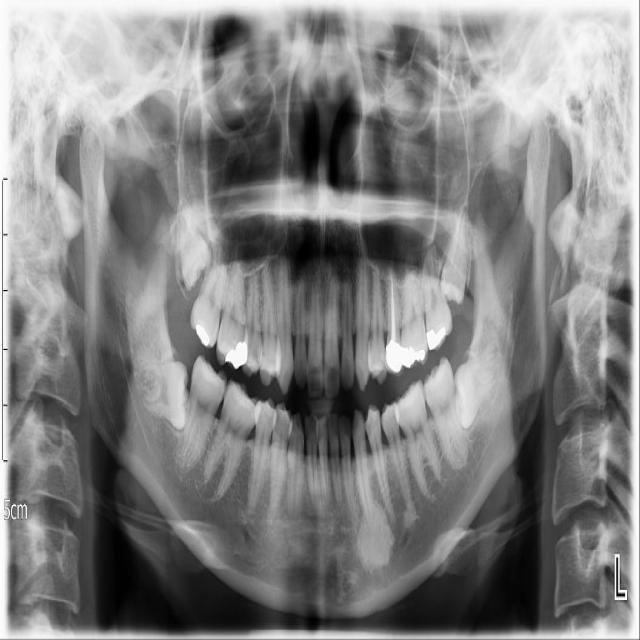3M ESPE Implant: (175, 199, 213, 292)
52: (174, 292, 233, 350), (210, 312, 257, 373), (395, 322, 431, 369), (424, 302, 455, 353), (383, 331, 404, 378)
73: (387, 263, 400, 336), (596, 562, 600, 574)
BioHorizons Implant: (420, 244, 455, 352)
BioLife Implant: (438, 205, 475, 305)
Biomet 3i Implant: (432, 334, 512, 431)
Blue Sky Bio Implant: (416, 354, 472, 472), (176, 354, 230, 474)
Caries: (186, 236, 232, 351)
Keystone Dental Implant: (139, 360, 191, 434)
